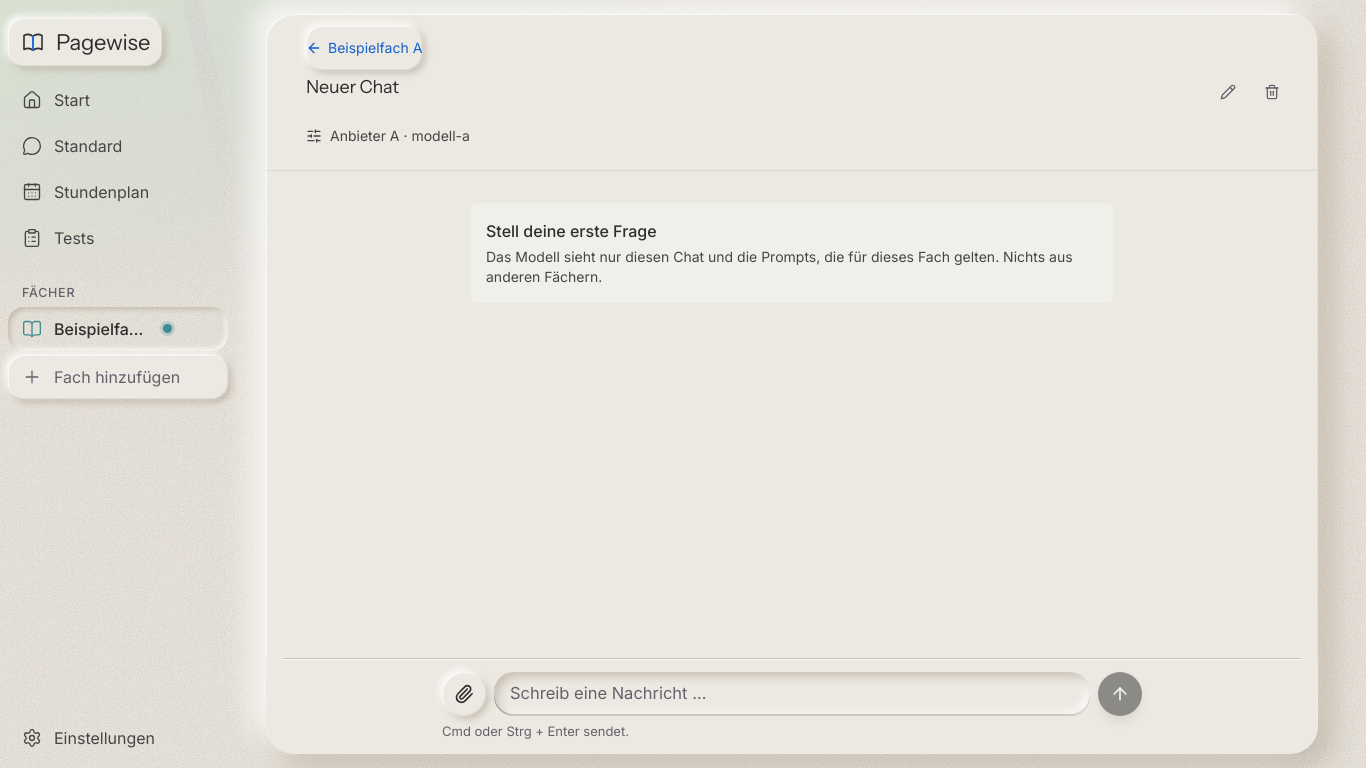
Test: Chat: Antworten › lässt den Entwurf stehen und nennt den Grund, wenn der Server die Nachricht ablehnt
The image size is (1366, 768).
Click the text box labelled "Nachricht".
click(792, 694)  # box [494,672,1090,716]
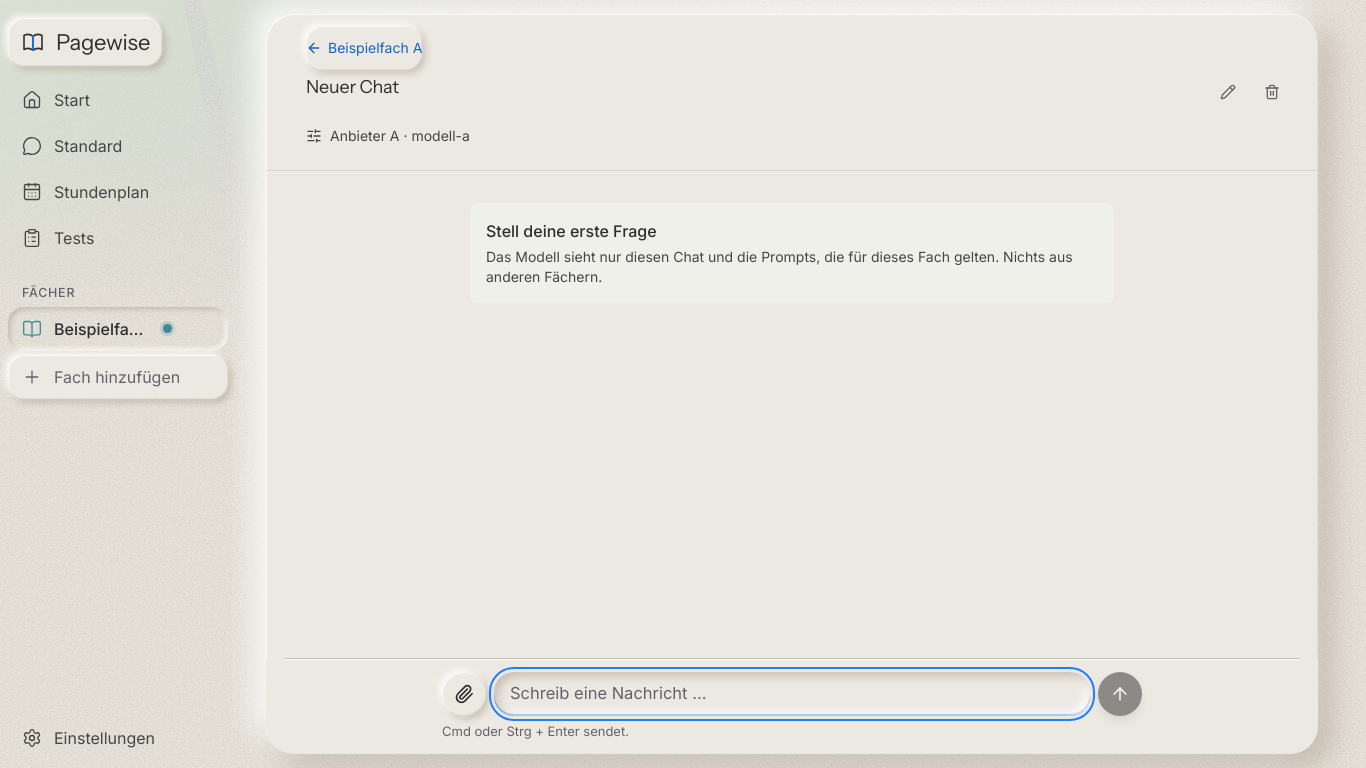
Type keys "Meine Frage"
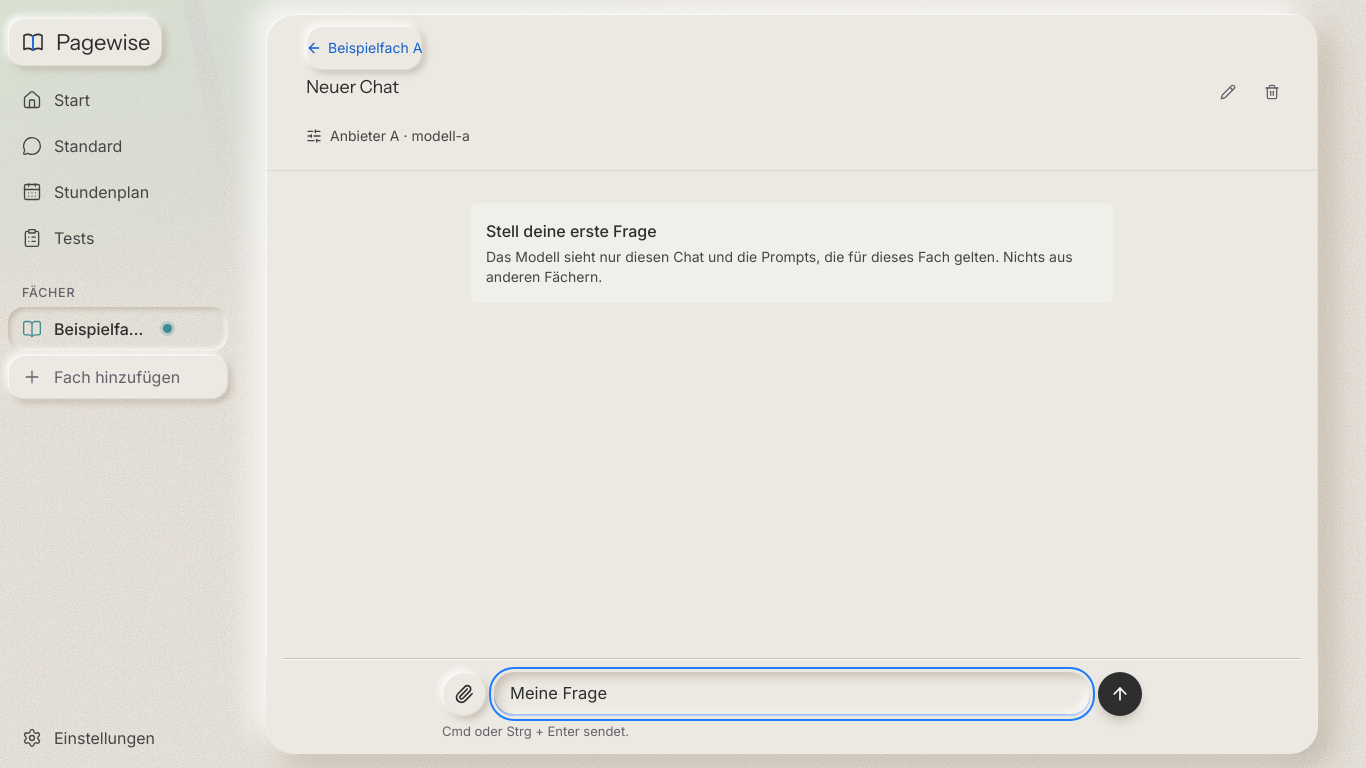
Click the button named "Senden".
click(1120, 694)  # box [1098,672,1142,716]
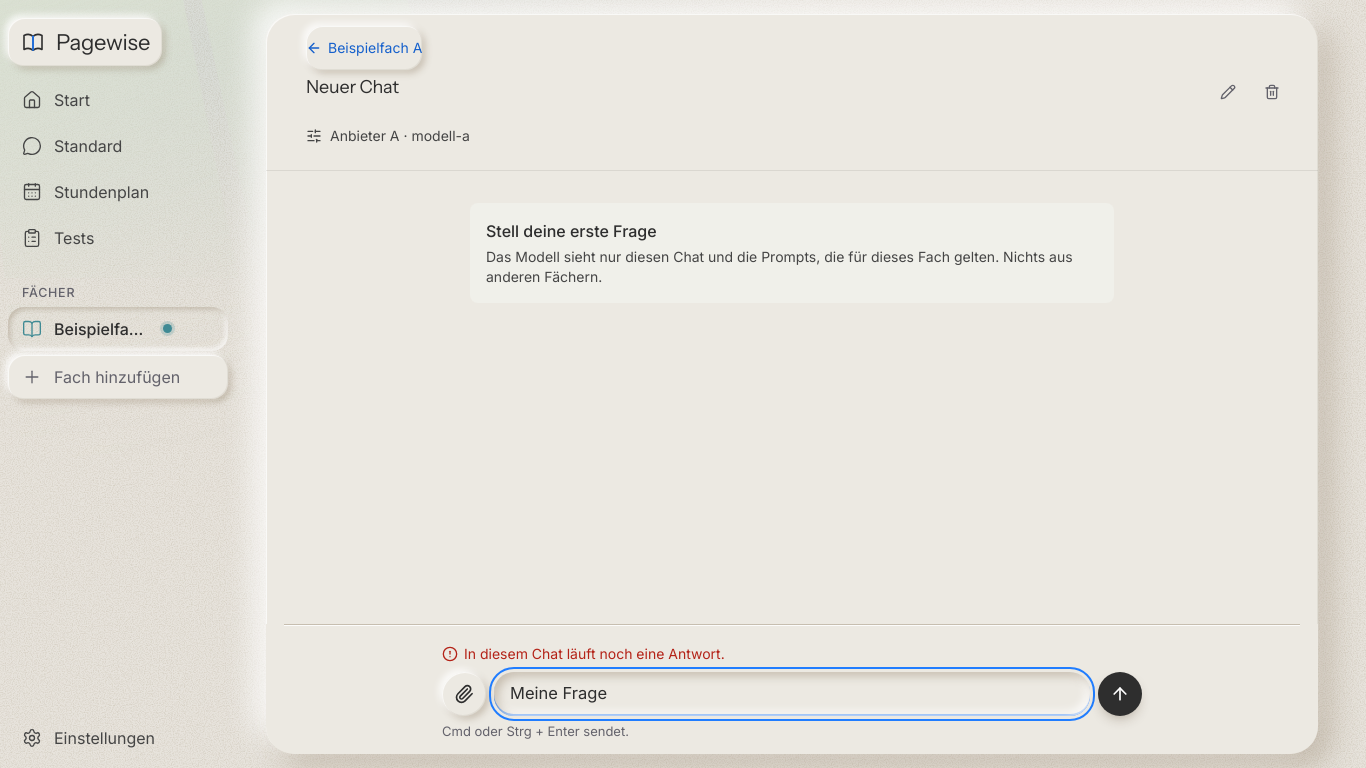
expect the text box named "Nachricht" holds "Meine Frage": met, box [494,672,1090,716]
expect the text "In diesem Chat läuft noch eine Antwort." is shown: met, box [464,644,725,664]
